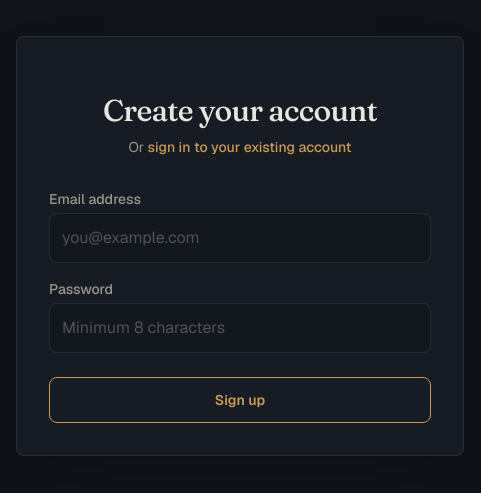
Test: SignupPage › shows validation error on invalid email
The width and height of the screenshot is (481, 493).
Note: Enter invalid email
In the field labelled "Email address": [240, 238] box [49,213,431,263], type "invalid-email"
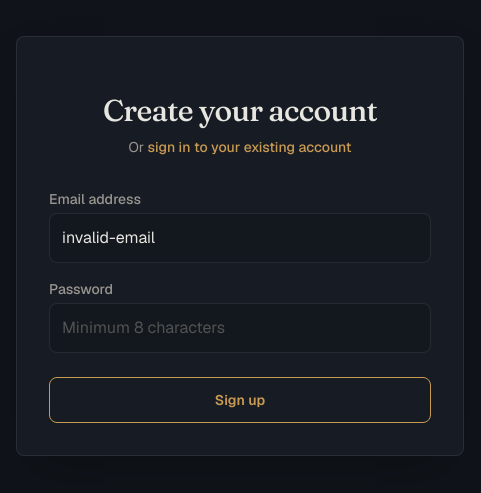
Click the button "Sign up": [240, 400] box [49,377,431,423]
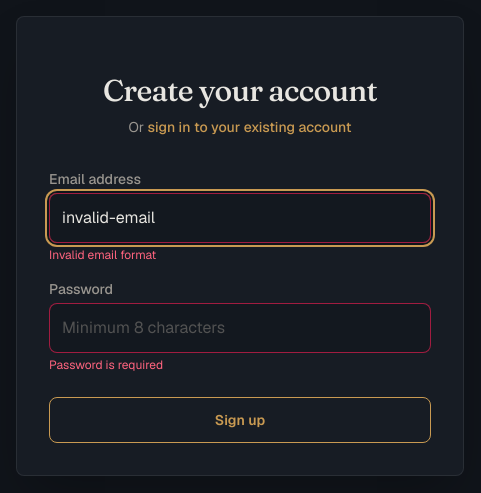
expect the text "Invalid email format" is shown: met, box [49,247,156,263]
